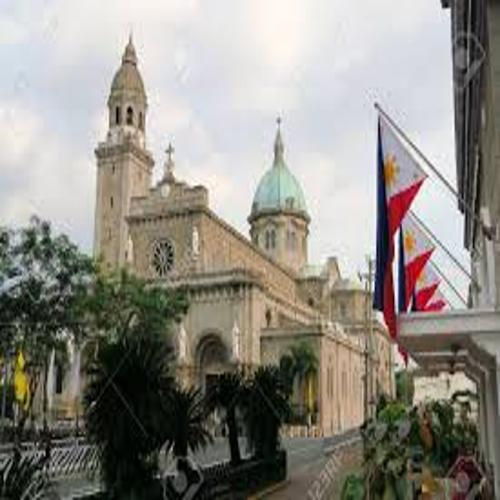Manila Cathedral Church: (53, 22, 363, 458)
